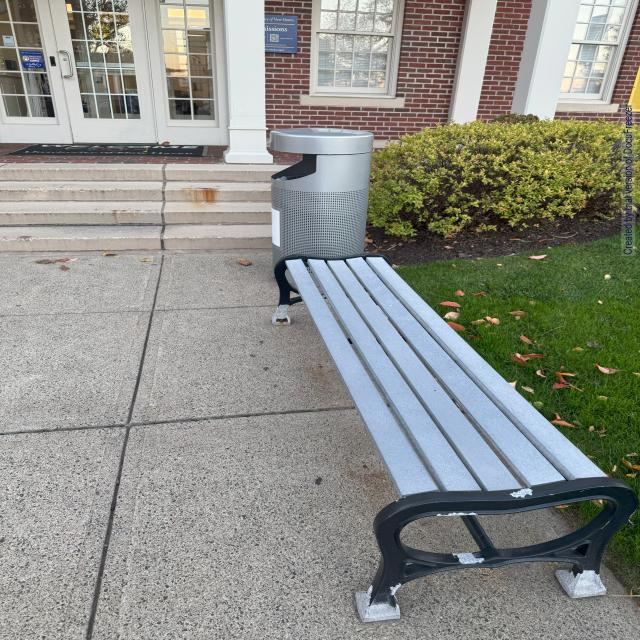Table: (269, 248, 639, 625)
Trash bin: (256, 108, 377, 294)
